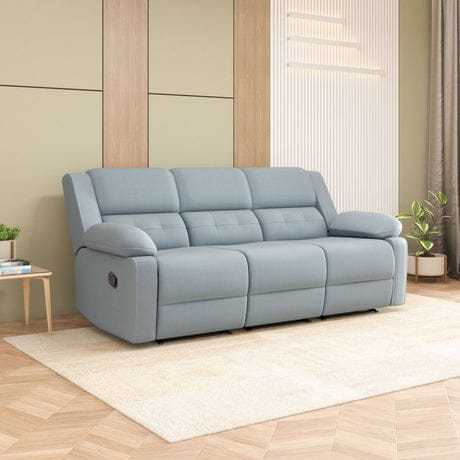3seatersofa: (63, 167, 406, 342)
backrest: (74, 168, 331, 249)
base: (155, 290, 319, 339), (321, 281, 392, 315)
leftarmrest: (329, 211, 407, 304)
rightarmrest: (76, 223, 156, 341)
seat: (159, 238, 394, 305)
